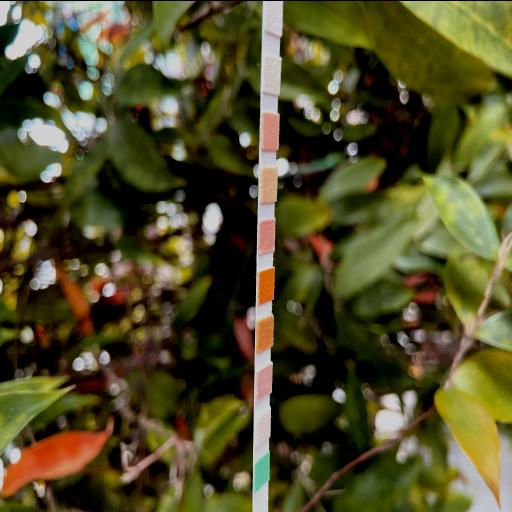Bilirubin: (256, 416, 268, 438)
Blood: (260, 274, 272, 296)
Glucose: (257, 462, 267, 480)
Ketone: (259, 370, 270, 392)
Leukocytes: (266, 0, 280, 25)
Nitrite: (266, 61, 280, 85)
Protein: (261, 170, 275, 196)
SpGravity: (260, 322, 272, 344)
Urobilinogen: (264, 117, 277, 144)
pH: (260, 223, 274, 248)
strip: (254, 0, 283, 512)
